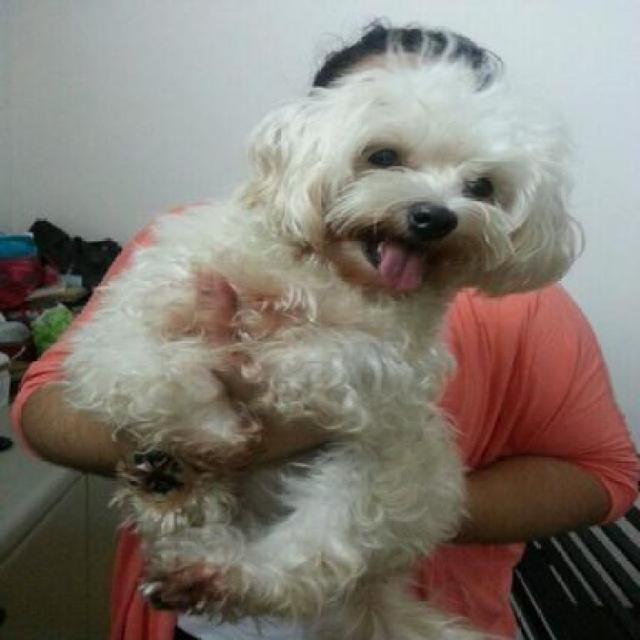Dog: (63, 23, 588, 639)
